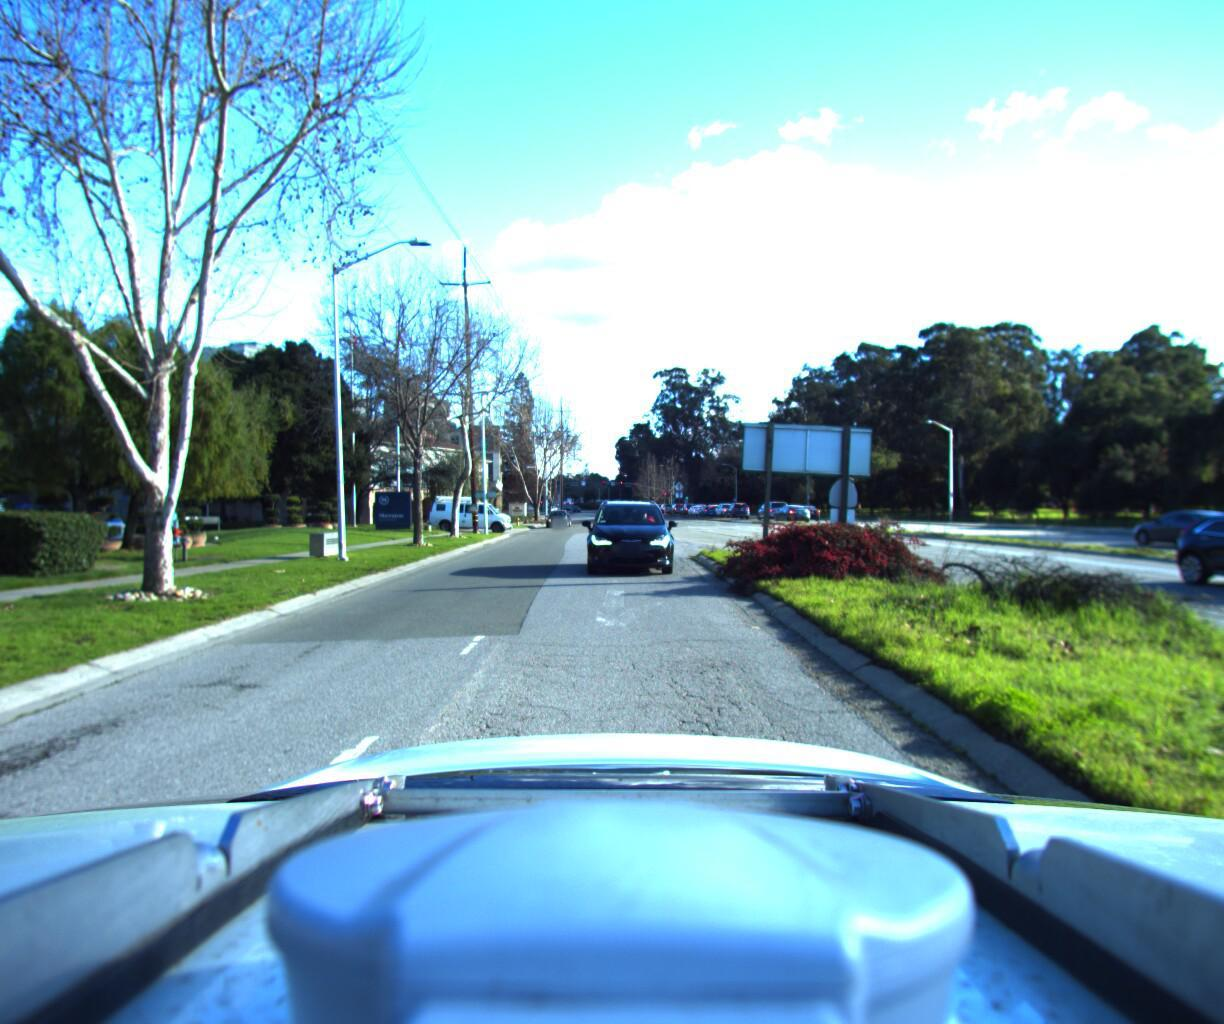car: (574, 491, 669, 575), (1108, 502, 1224, 542), (425, 491, 515, 529), (770, 498, 811, 516), (540, 500, 569, 521), (723, 493, 753, 513), (1223, 507, 1224, 618)
